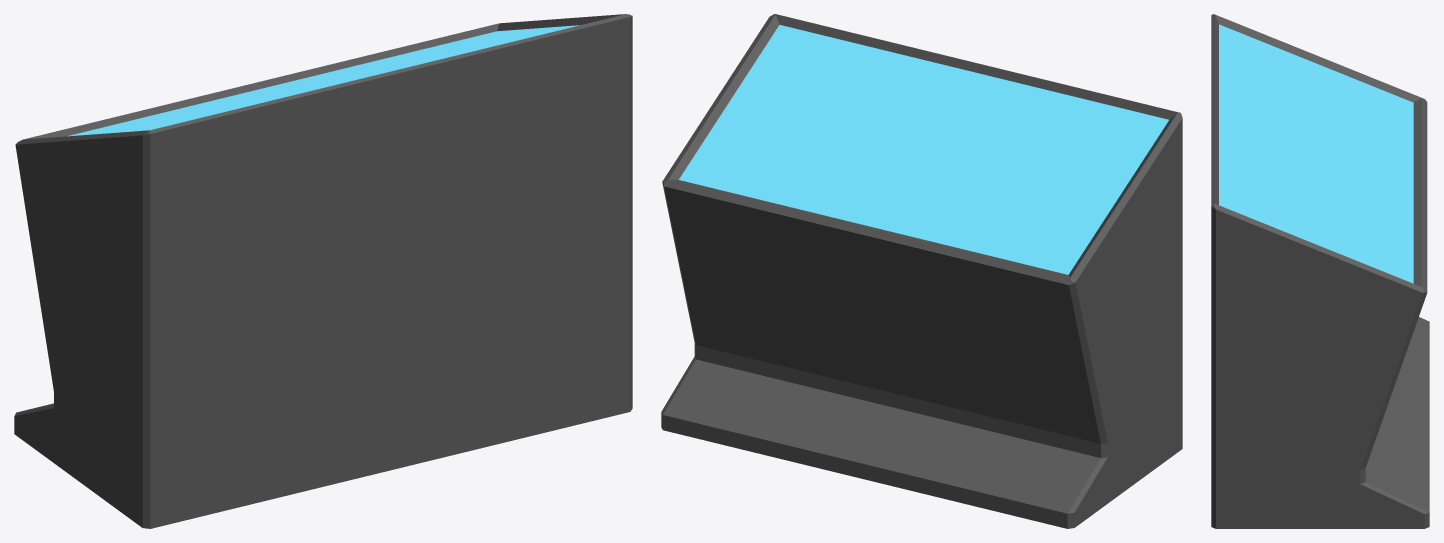
Rendered from Terminal.glb.
3 renders of one model, left to right at view 1: azimuth 30°, elevation 25°; view 2: azimuth 150°, elevation 25°; view 3: azimuth 270°, elevation 25°, orthographic. The views are drawn at different scales.
Visible parts, largest first — view 1: terminal; view 2: terminal; view 3: terminal.
Part boxes in pixels (x1,y1,x2,y2): terminal: (14, 14, 632, 528); terminal: (661, 14, 1182, 528); terminal: (1211, 14, 1429, 528).
Size of the model in its own units: 2 by 1.55 by 0.9496.
